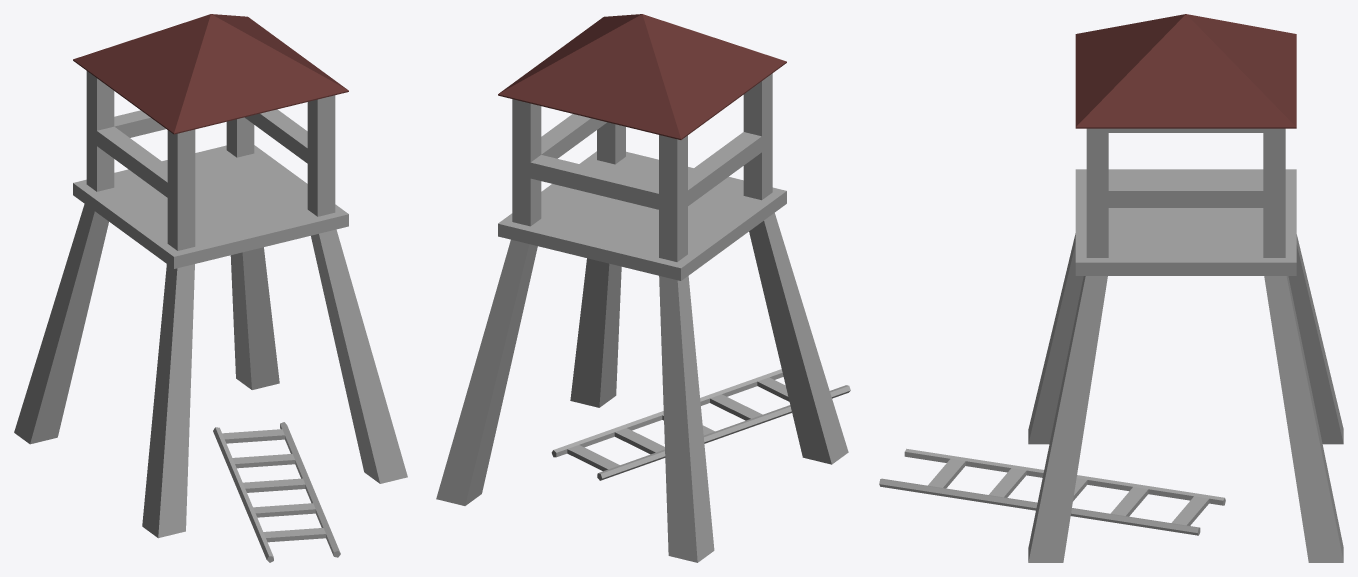
The model's file is watchtower.fbx.
The picture shows the model from 3 angles, left to right: view 1: azimuth 30°, elevation 25°; view 2: azimuth 150°, elevation 25°; view 3: azimuth 270°, elevation 25°; orthographic projection. The views are drawn at different scales.
Visible parts, largest first — view 1: watchtowerBase, watchtowerCeil, watchtowerLadder; view 2: watchtowerBase, watchtowerCeil, watchtowerLadder; view 3: watchtowerBase, watchtowerCeil, watchtowerLadder.
Boxes of the visible parts, <box> form: watchtowerBase: <box>14,71,407,538</box>; watchtowerCeil: <box>73,14,348,134</box>; watchtowerLadder: <box>213,422,340,562</box>; watchtowerBase: <box>436,73,848,562</box>; watchtowerCeil: <box>498,14,786,139</box>; watchtowerLadder: <box>551,369,850,480</box>; watchtowerBase: <box>1028,128,1343,562</box>; watchtowerCeil: <box>1075,14,1296,128</box>; watchtowerLadder: <box>879,448,1225,535</box>.
Bounding box in the file's own units: 214 × 361 × 315.
